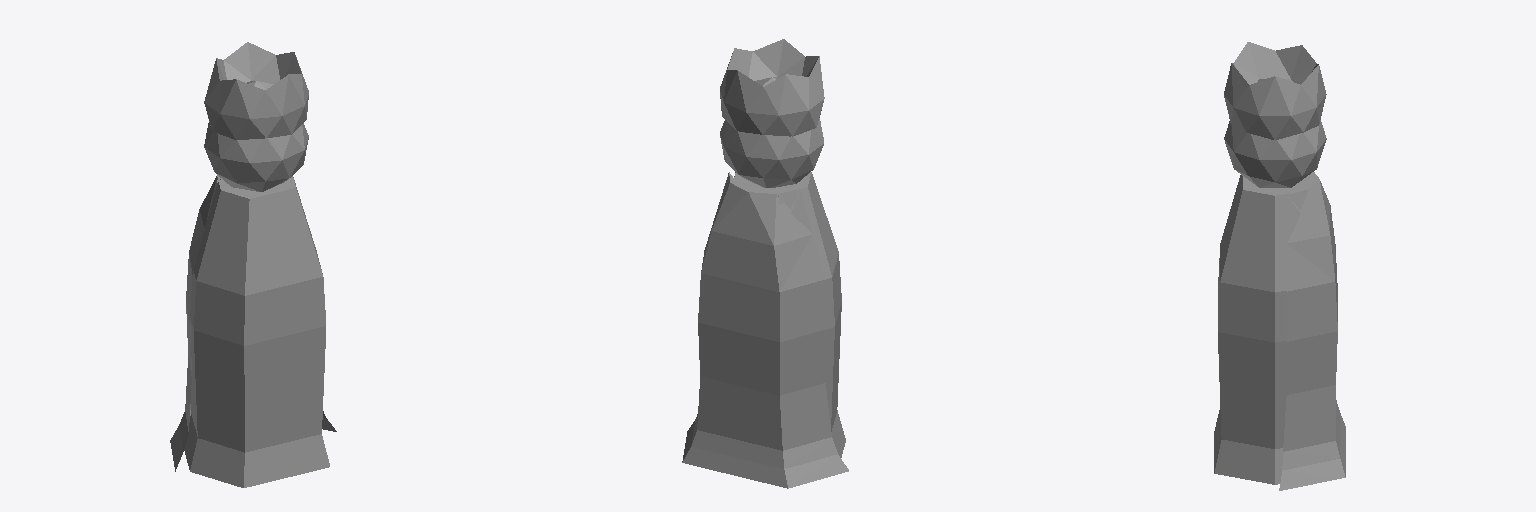
File: king.obj
3 views of the same model, side by side, from view 1: azimuth 30°, elevation 25°; view 2: azimuth 150°, elevation 25°; view 3: azimuth 270°, elevation 25° (orthographic).
Parts seen in each view (by area): view 1: Cube_Cube_Material, hat2_Icosphere.002_Material.001, Icosphere_Icosphere_Material.001, cape_Cube.002_Material; view 2: cape_Cube.002_Material, hat2_Icosphere.002_Material.001, Icosphere_Icosphere_Material.001, Cube_Cube_Material; view 3: Cube_Cube_Material, cape_Cube.002_Material, hat2_Icosphere.002_Material.001, Icosphere_Icosphere_Material.001.
Part boxes in pixels (bbox=[...]): Cube_Cube_Material: bbox=[184, 175, 329, 487]; hat2_Icosphere.002_Material.001: bbox=[204, 42, 308, 139]; Icosphere_Icosphere_Material.001: bbox=[204, 122, 308, 191]; cape_Cube.002_Material: bbox=[170, 176, 336, 471]; cape_Cube.002_Material: bbox=[682, 172, 848, 488]; hat2_Icosphere.002_Material.001: bbox=[720, 39, 824, 136]; Icosphere_Icosphere_Material.001: bbox=[720, 118, 823, 187]; Cube_Cube_Material: bbox=[734, 172, 845, 457]; Cube_Cube_Material: bbox=[1214, 175, 1299, 484]; cape_Cube.002_Material: bbox=[1279, 172, 1345, 490]; hat2_Icosphere.002_Material.001: bbox=[1224, 42, 1326, 139]; Icosphere_Icosphere_Material.001: bbox=[1224, 120, 1326, 187].
Size of the model in its own units: 1.54 by 3.59 by 1.08.